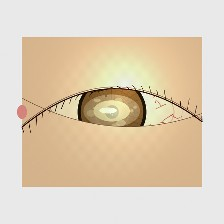corneal_ulcer: (82, 87, 141, 135)
